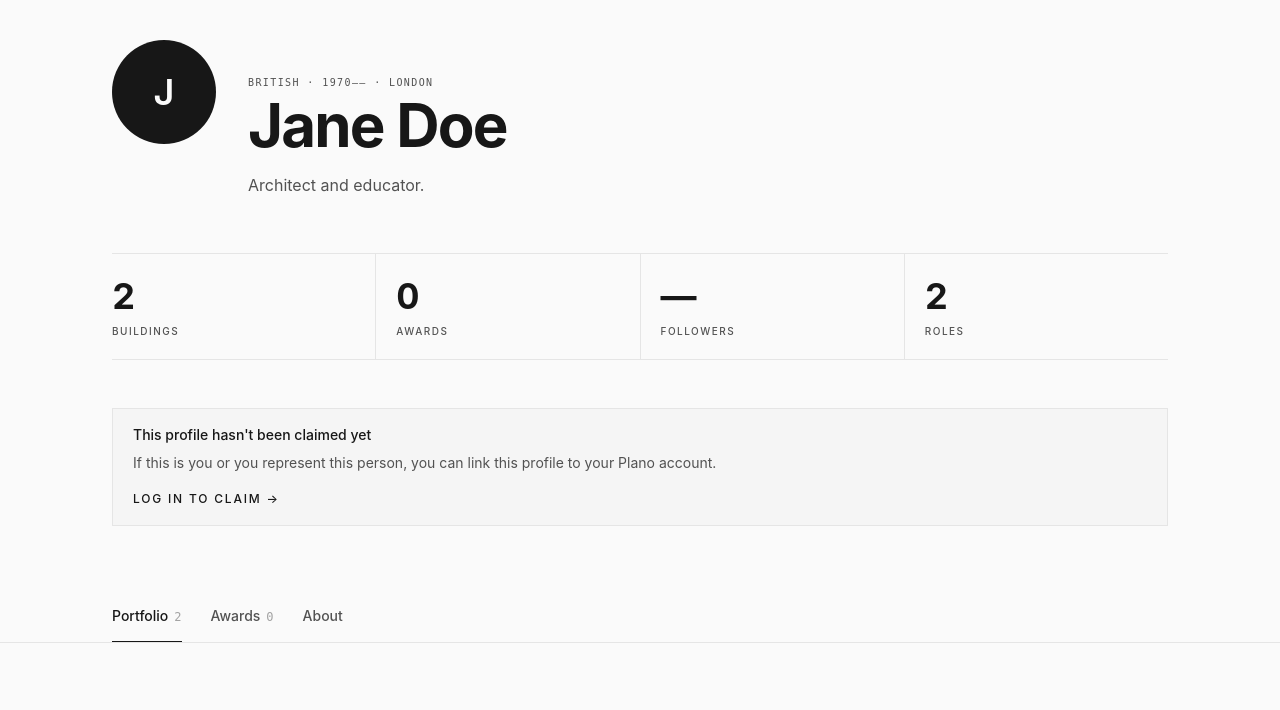
Test case: PersonDetails profile-aligned layout › defaults to the Portfolio tab and switches sections via the tab bar
Switch to Awards → canonical empty state.
Click the button "Awards0".
click(243, 616)  # box [210,590,275,642]
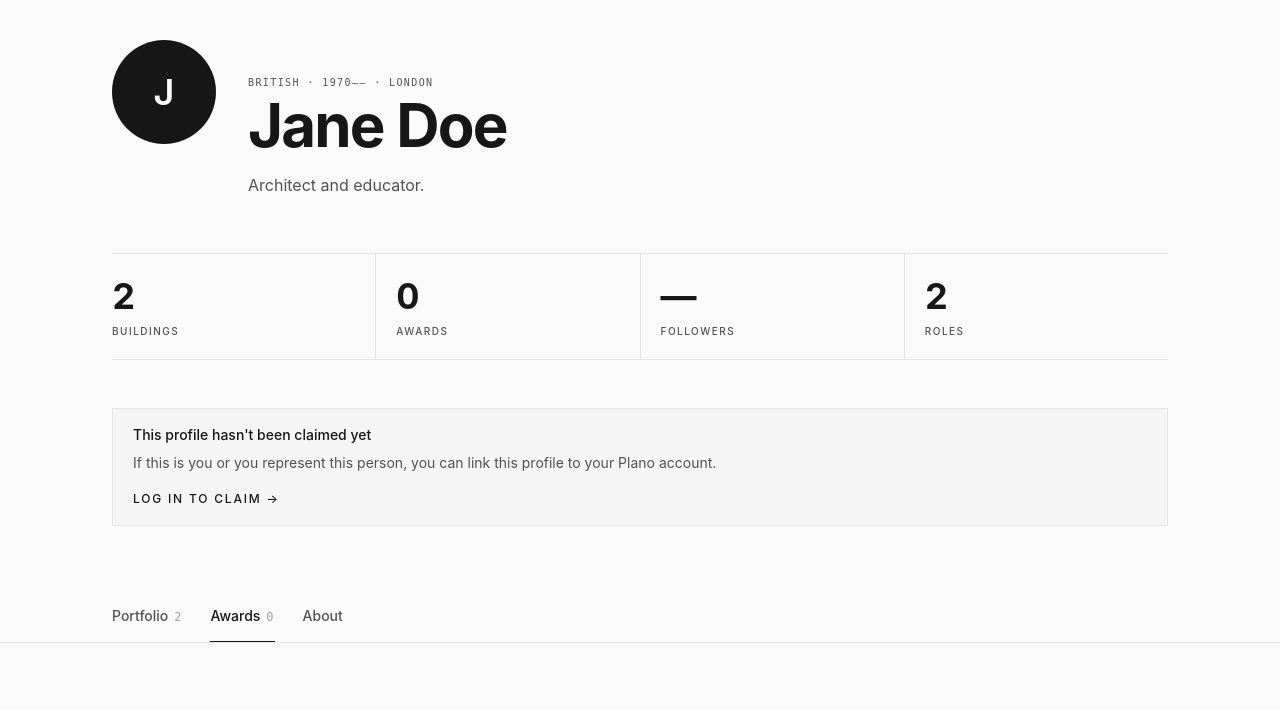
Switch to About → label/value rows.
Click the button "About".
click(323, 616)  # box [302,590,343,642]
(page scrolled)
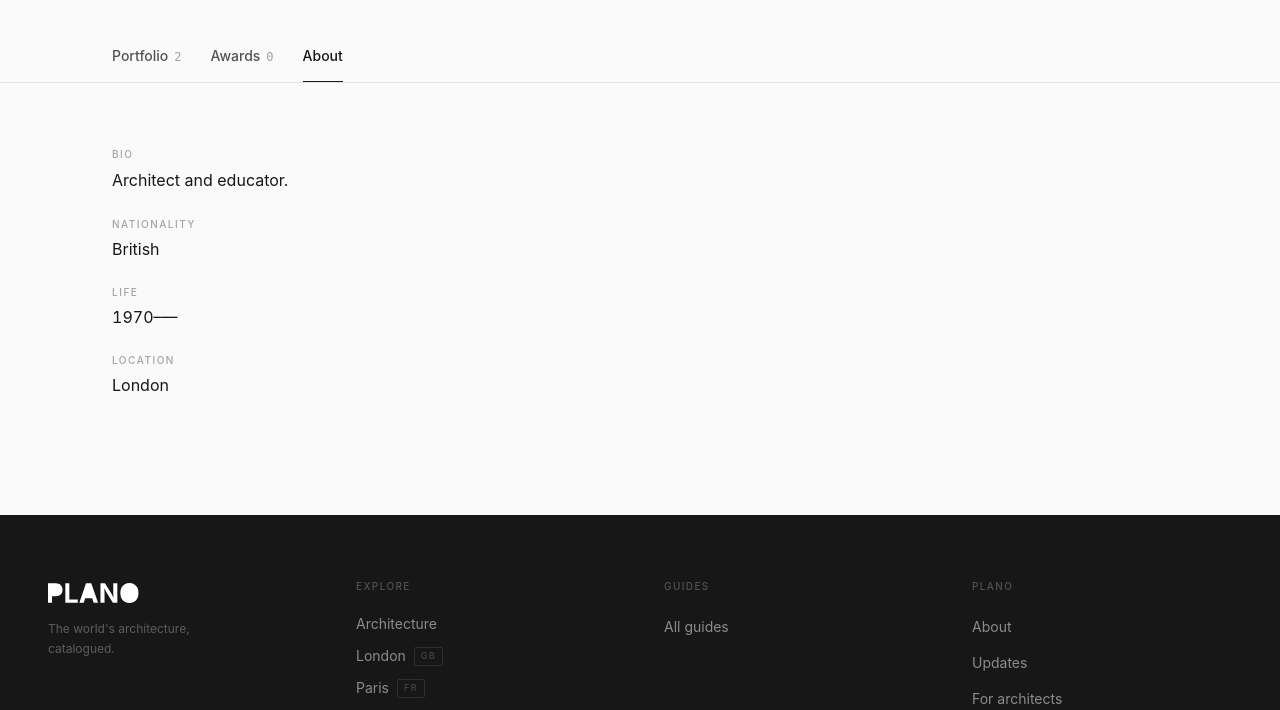
Expected: the text "Nationality" is shown, [112,218,196,230]
Expected: the text "British" is shown, [112,239,160,259]
Expected: the text "Location" is shown, [112,354,175,366]
